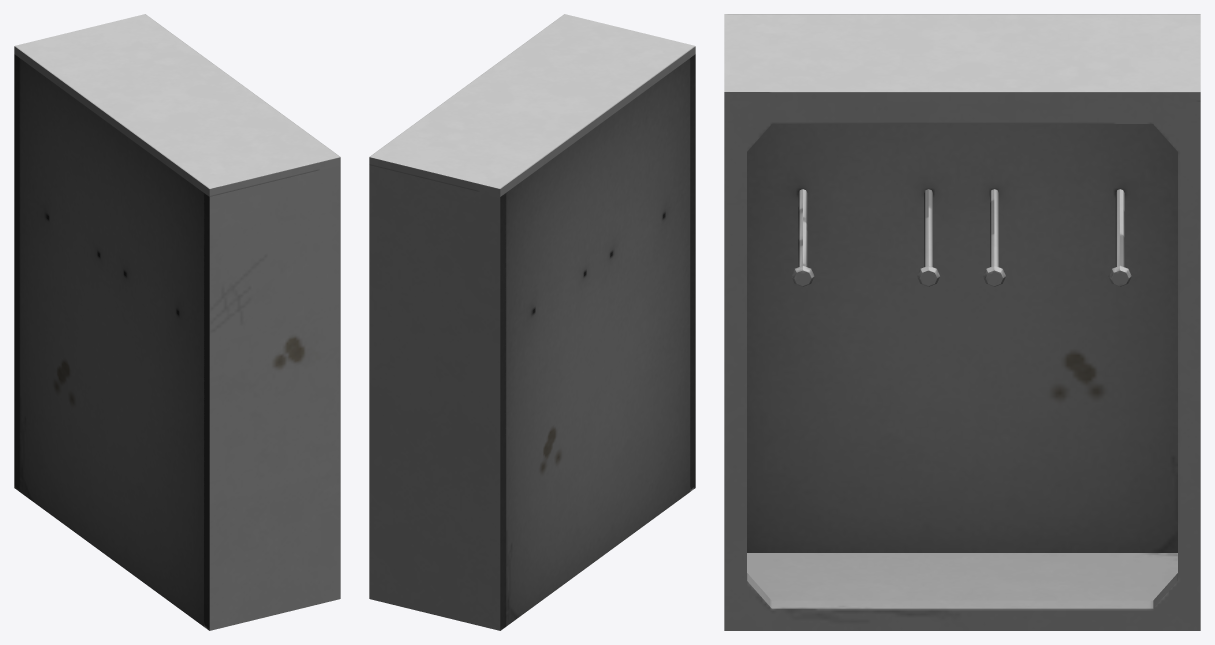
Rendered from PROP_026_AirlockCloset.fbx.
3 views of the same model, side by side, from view 1: azimuth 30°, elevation 25°; view 2: azimuth 150°, elevation 25°; view 3: azimuth 270°, elevation 25° (orthographic). The views are drawn at different scales.
Visible parts, largest first — view 1: Cylinder.003; view 2: Cylinder.003; view 3: Cylinder.003.
Part boxes in pixels (x1,y1,x2,y2): Cylinder.003: [14, 14, 340, 630]; Cylinder.003: [369, 14, 695, 630]; Cylinder.003: [724, 14, 1200, 630].
Bounding box in the file's own units: 51.83 × 153 × 122.
Materials: 1 (1 with a texture image).
